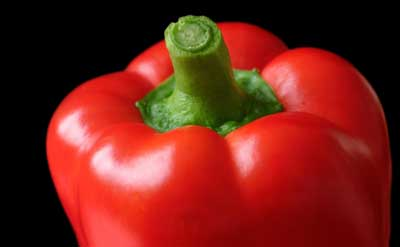capsicum: (45, 16, 393, 246)
